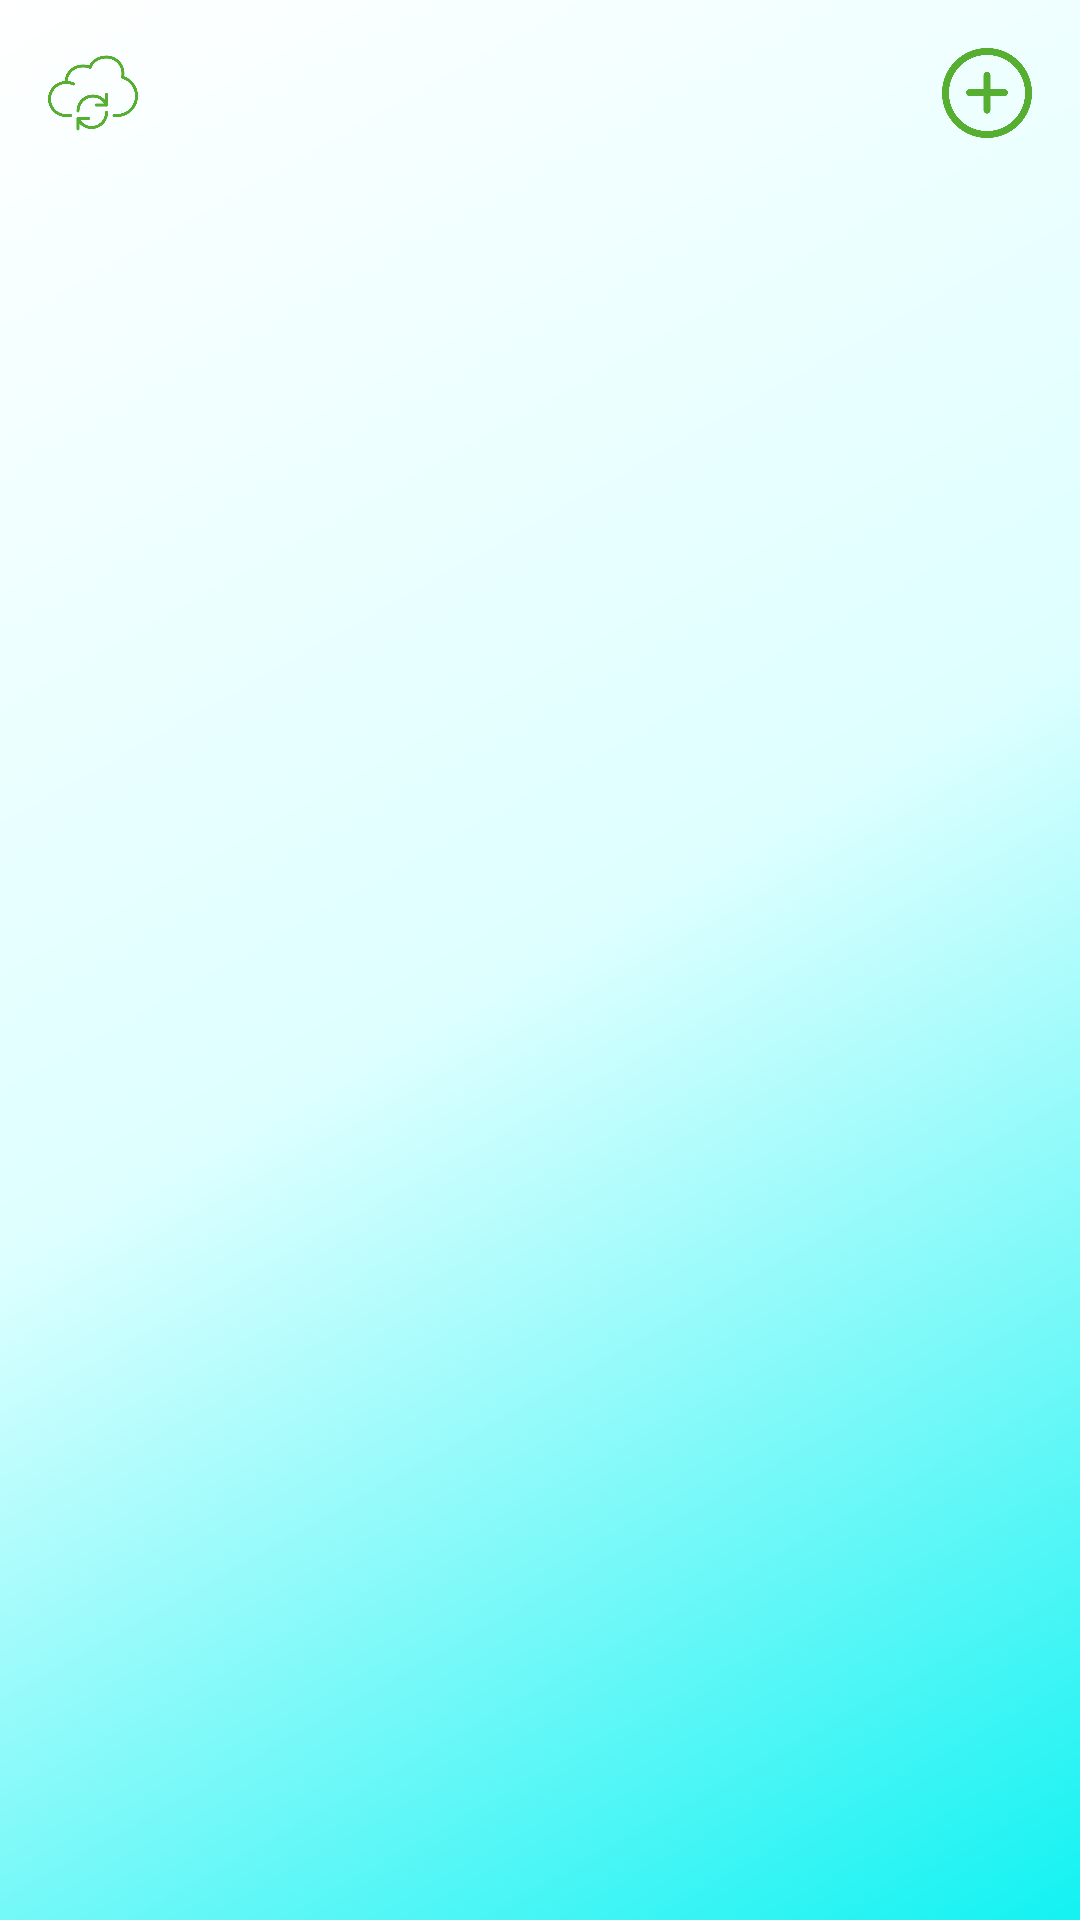

Icons on this 1080px x 1920px Android screen, each with the point to tap as [x,y]:
add: [987,93]
sync msg: [93,93]
